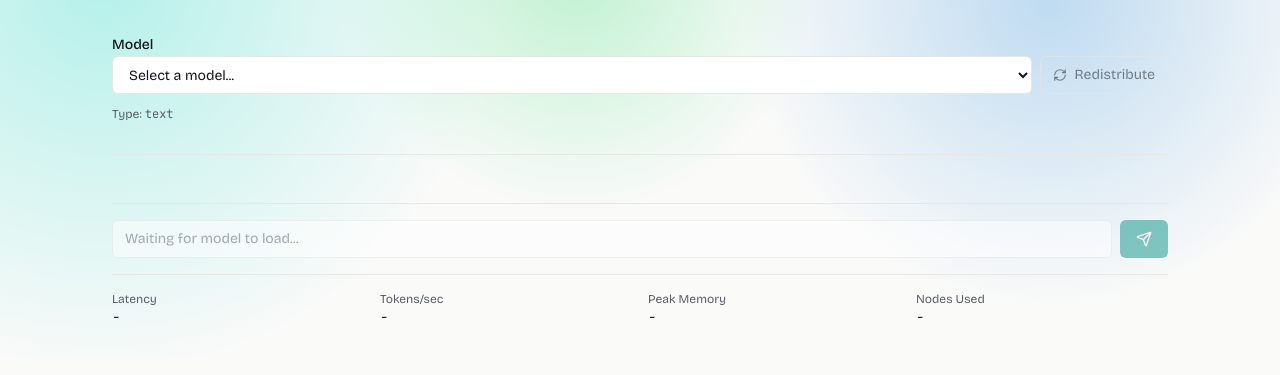
Inference › shows an error message when the model fails to load
Select "dummy-mamba-tiny" in the dropdown labelled "Model" at [572, 75], box [112,56,1032,94]
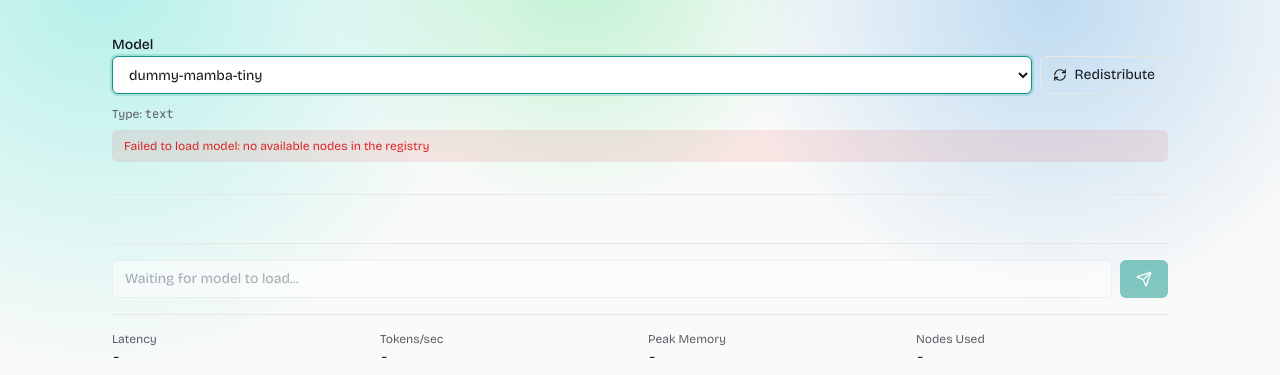
Now the text "Failed to load model: no available nodes in the registry" is shown, box [112,130,1168,162]
